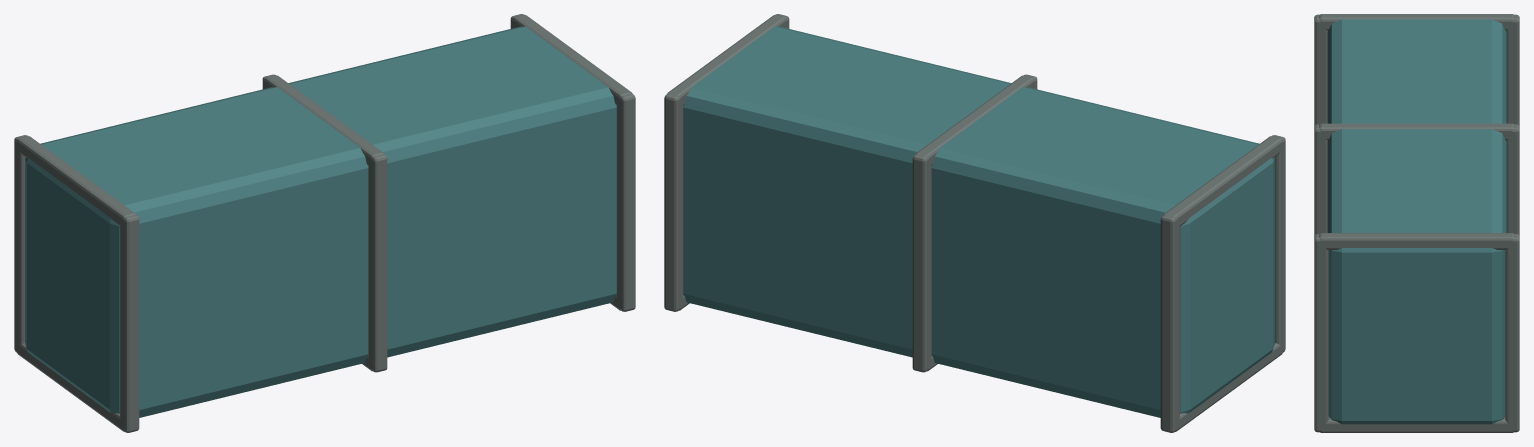
Rendered from overhead-duct.glb.
3 views of the same model, side by side, from view 1: azimuth 30°, elevation 25°; view 2: azimuth 150°, elevation 25°; view 3: azimuth 270°, elevation 25° (orthographic). The views are drawn at different scales.
Parts seen in each view (by area): view 1: overhead-duct__overhead-duct__petrol, overhead-duct__overhead-duct__hardware; view 2: overhead-duct__overhead-duct__petrol, overhead-duct__overhead-duct__hardware; view 3: overhead-duct__overhead-duct__petrol, overhead-duct__overhead-duct__hardware.
Boxes of the visible parts, left/top/right/bottom form: overhead-duct__overhead-duct__petrol: left=25, top=26, right=616, bottom=417; overhead-duct__overhead-duct__hardware: left=14, top=14, right=635, bottom=432; overhead-duct__overhead-duct__petrol: left=683, top=26, right=1274, bottom=417; overhead-duct__overhead-duct__hardware: left=664, top=14, right=1285, bottom=432; overhead-duct__overhead-duct__petrol: left=1327, top=19, right=1506, bottom=424; overhead-duct__overhead-duct__hardware: left=1314, top=14, right=1519, bottom=432.
Size of the model in its own units: 3 by 1.21 by 1.15.
